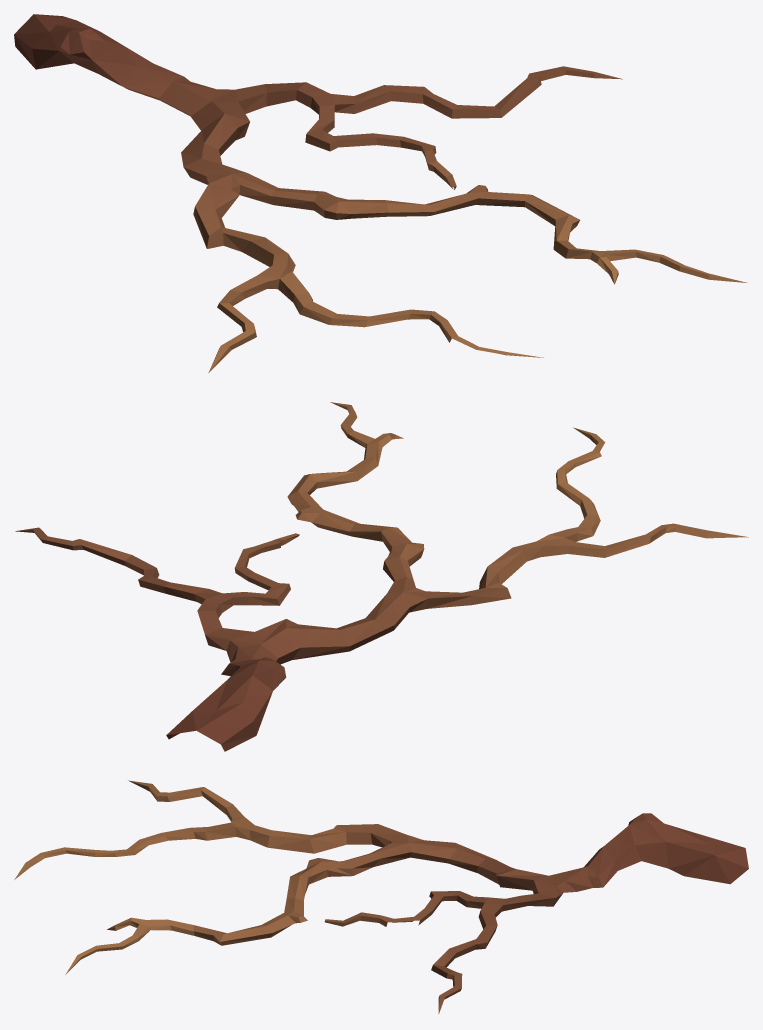
File: ZLP_Plant_Root_A_4.FBX
3 renders of one model, top to bottom at view 1: azimuth 30°, elevation 25°; view 2: azimuth 150°, elevation 25°; view 3: azimuth 270°, elevation 25°, orthographic. The views are drawn at different scales.
Visible parts, largest first — view 1: ZLP_Plant_Root_A_4; view 2: ZLP_Plant_Root_A_4; view 3: ZLP_Plant_Root_A_4.
Part boxes in pixels (x1,y1,x2,y2): ZLP_Plant_Root_A_4: (14, 14, 747, 372); ZLP_Plant_Root_A_4: (15, 402, 748, 751); ZLP_Plant_Root_A_4: (14, 780, 748, 1014).
Size of the model in its own units: 351 by 37.12 by 462.
